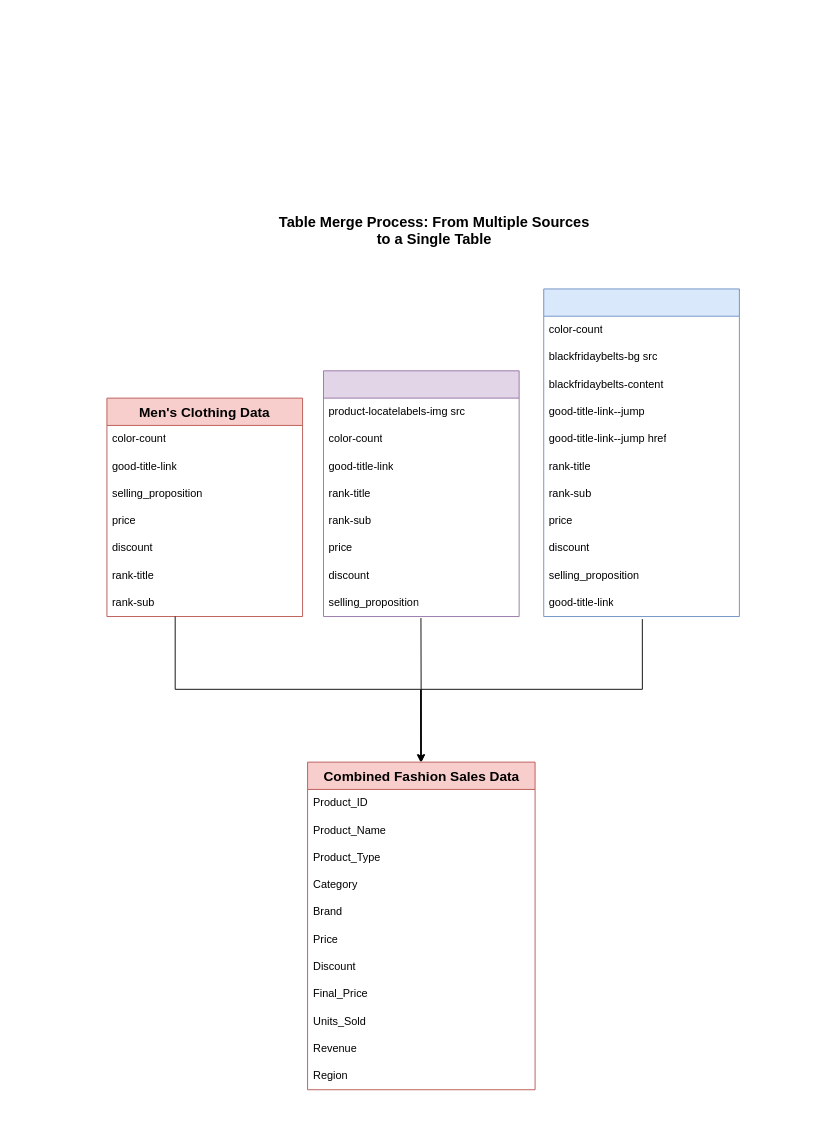
Image size: 814x1141. Some labels were removed from this diagram. Here are the shapes that lost their labels. From the top down, the box of each, then its label:
(543, 288, 739, 617): Sports Clothing Data
(323, 370, 519, 617): Women's Clothing Data
